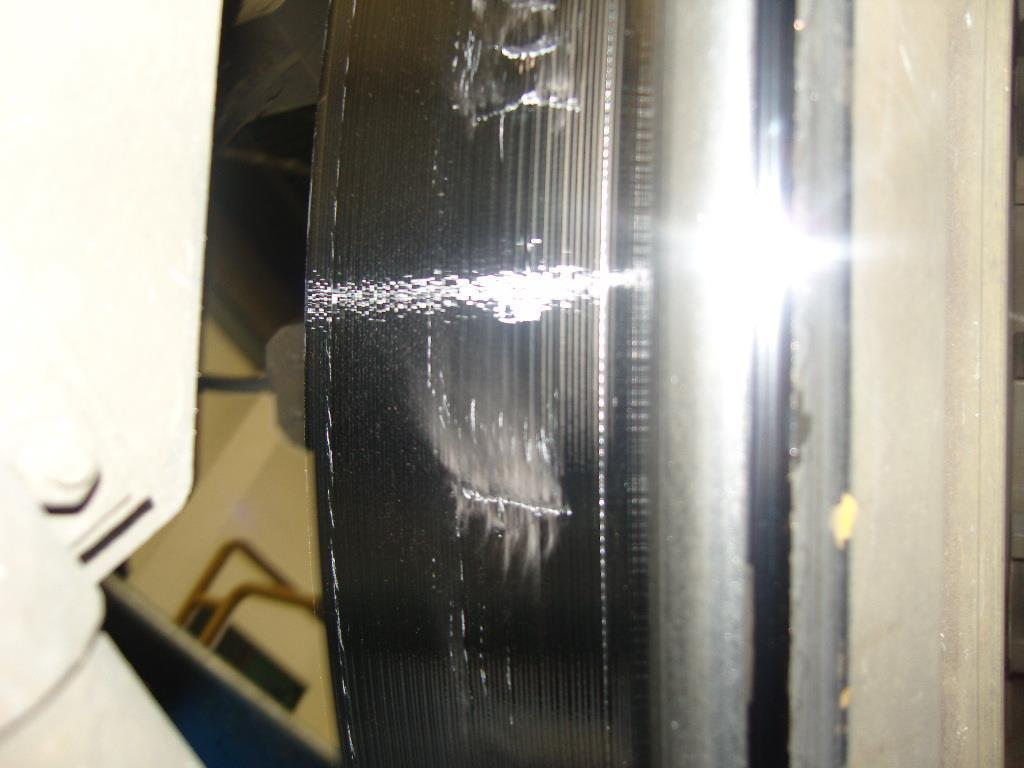Cracks-Scratches: (453, 485, 581, 516), (462, 91, 592, 121), (492, 31, 575, 60)
